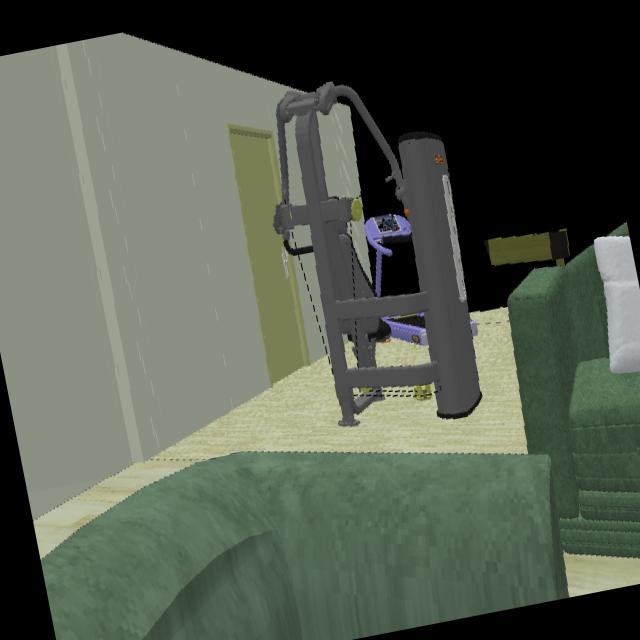pillow: (594, 238, 640, 378)
sofa: (41, 451, 571, 640), (508, 246, 640, 561)
